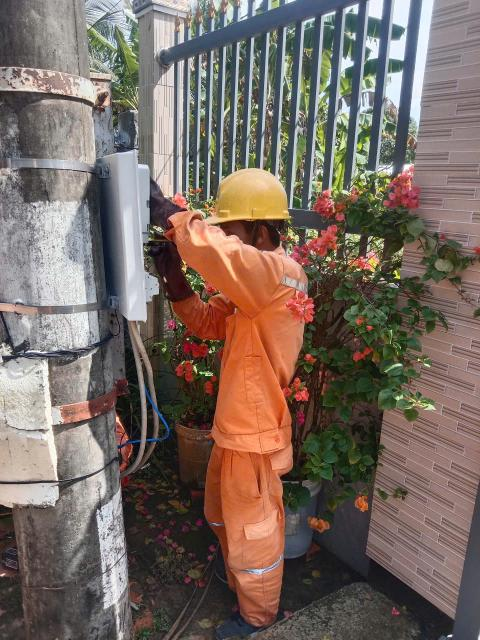gloves: (142, 225, 195, 306), (143, 172, 187, 226)
helmet: (192, 167, 303, 234)
shoes: (210, 603, 270, 639)
